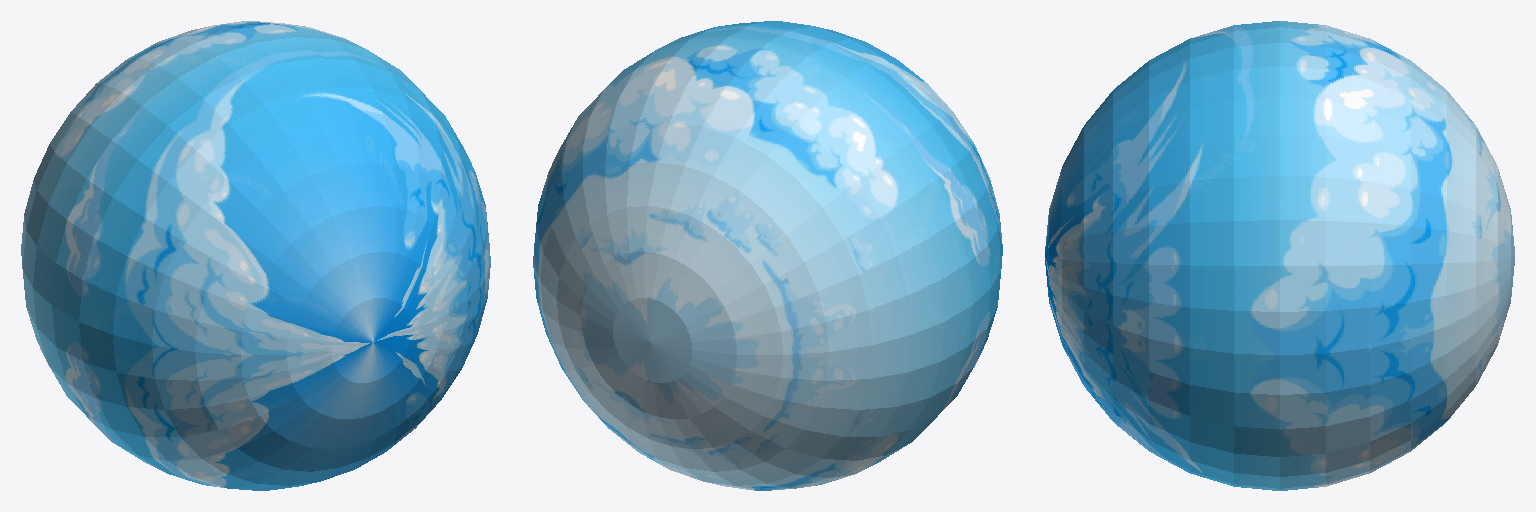
The picture shows the model from 3 angles: view 1: azimuth 30°, elevation 25°; view 2: azimuth 150°, elevation 25°; view 3: azimuth 270°, elevation 25°; orthographic projection.
Visible parts, largest first — view 1: Sphere001; view 2: Sphere001; view 3: Sphere001.
Part boxes in pixels (x1,y1,x2,y2): Sphere001: (21, 21, 490, 490); Sphere001: (533, 21, 1002, 490); Sphere001: (1045, 21, 1514, 490).
Size of the model in its own units: 517 by 517 by 517.
5 materials, 5 textured.